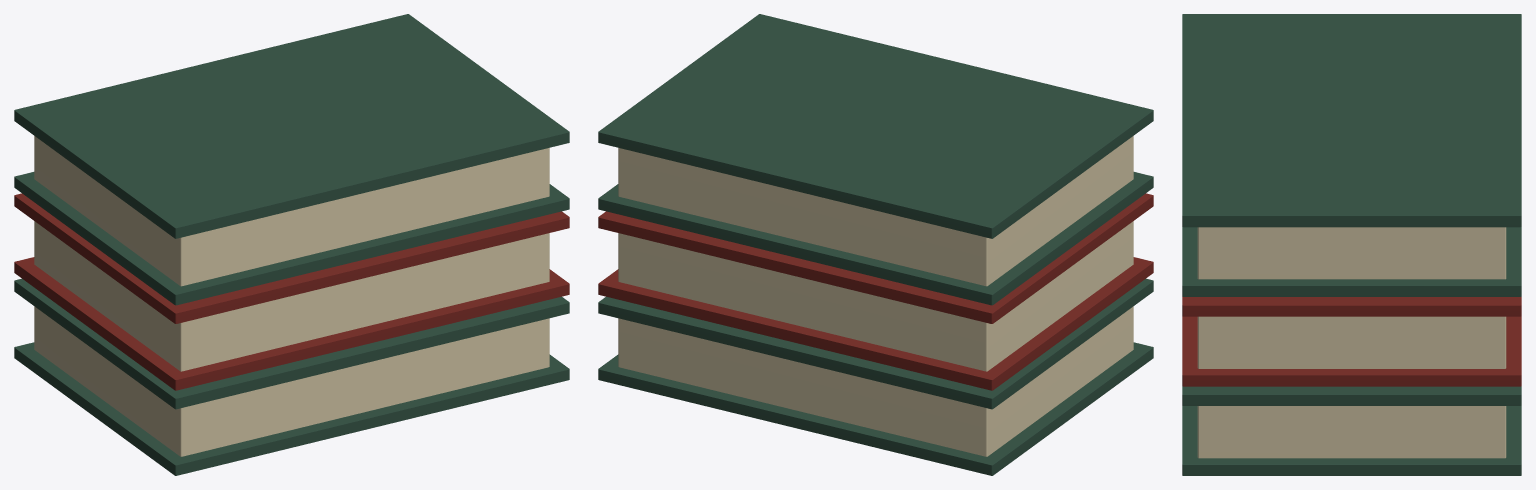
The model's file is Book_Stack.fbx.
3 views of the same model, side by side, from view 1: azimuth 30°, elevation 25°; view 2: azimuth 150°, elevation 25°; view 3: azimuth 270°, elevation 25° (orthographic). The views are drawn at different scales.
Visible parts, largest first — view 1: Book cover.011, Pages.004, Pages.003, Pages.005, Book cover.006, Book cover.008, Book cover.010, Book cover.007, Book cover.009; view 2: Book cover.011, Pages.004, Pages.003, Pages.005, Book cover.006, Book cover.008, Book cover.010, Book cover.007, Book cover.009; view 3: Book cover.011, Pages.003, Pages.005, Pages.004, Book cover.008, Book cover.006, Book cover.010, Book cover.007, Book cover.009.
Boxes of the visible parts, left/top/right/bottom form: Book cover.011: left=14, top=14, right=569, bottom=238; Pages.004: left=34, top=221, right=549, bottom=371; Pages.003: left=34, top=306, right=549, bottom=456; Pages.005: left=34, top=136, right=549, bottom=286; Book cover.006: left=14, top=342, right=569, bottom=475; Book cover.008: left=14, top=257, right=569, bottom=390; Book cover.010: left=14, top=172, right=569, bottom=305; Book cover.007: left=14, top=278, right=569, bottom=409; Book cover.009: left=14, top=193, right=569, bottom=323; Book cover.011: left=598, top=14, right=1153, bottom=238; Pages.004: left=618, top=221, right=1133, bottom=371; Pages.003: left=618, top=306, right=1133, bottom=456; Pages.005: left=618, top=136, right=1133, bottom=286; Book cover.006: left=598, top=342, right=1153, bottom=475; Book cover.008: left=598, top=257, right=1153, bottom=390; Book cover.010: left=598, top=172, right=1153, bottom=305; Book cover.007: left=598, top=278, right=1153, bottom=409; Book cover.009: left=598, top=193, right=1153, bottom=323; Book cover.011: left=1182, top=14, right=1521, bottom=227; Pages.003: left=1197, top=406, right=1506, bottom=458; Pages.005: left=1197, top=227, right=1506, bottom=279; Pages.004: left=1197, top=316, right=1506, bottom=368; Book cover.008: left=1182, top=316, right=1521, bottom=386; Book cover.006: left=1182, top=406, right=1521, bottom=475; Book cover.010: left=1182, top=227, right=1521, bottom=296; Book cover.007: left=1182, top=386, right=1521, bottom=405; Book cover.009: left=1182, top=297, right=1521, bottom=316.
Size of the model in its own units: 0.31 by 0.186 by 0.22.
